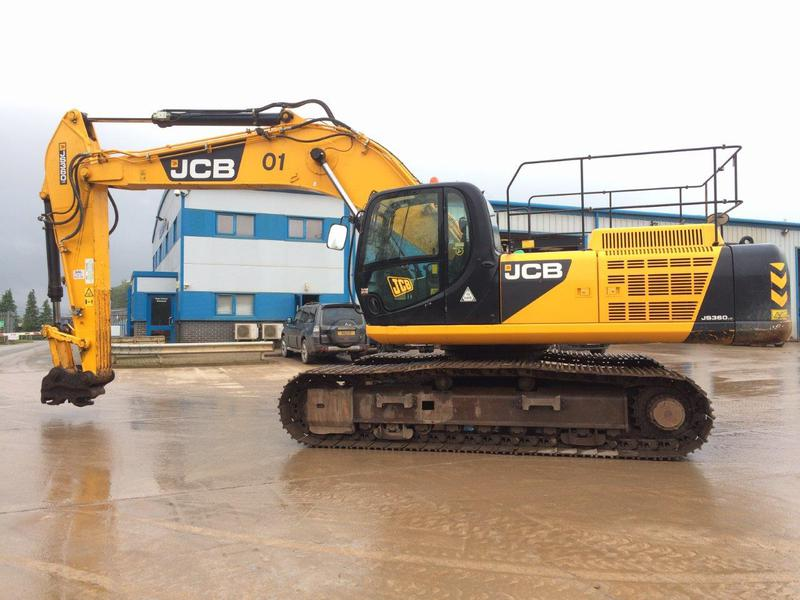shovel: (35, 88, 752, 475)
